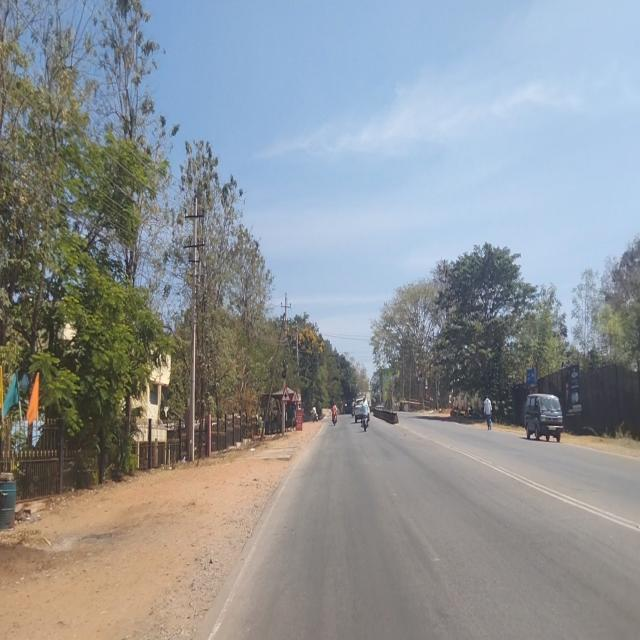bien_cam: (281, 386, 291, 402)
